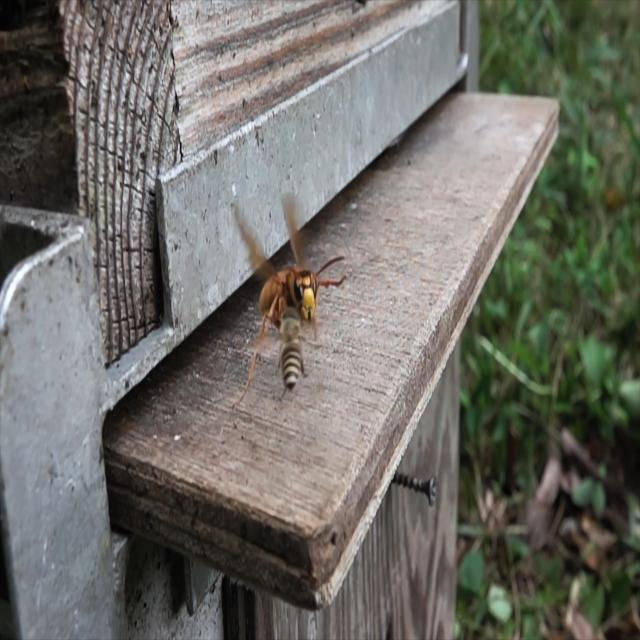Bees: (276, 308, 311, 405)
Hornets: (231, 194, 346, 319)
